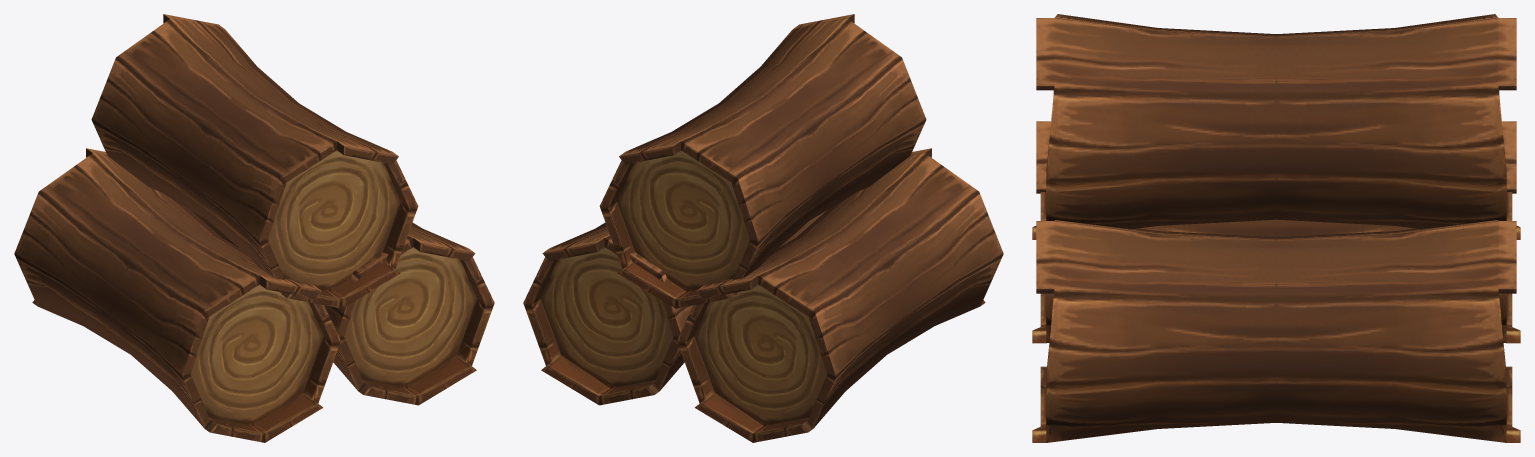
Rendered from 38_log.FBX.
3 renders of one model, left to right at view 1: azimuth 30°, elevation 25°; view 2: azimuth 150°, elevation 25°; view 3: azimuth 270°, elevation 25°, orthographic. The views are drawn at different scales.
Visible parts, largest first — view 1: 38_log; view 2: 38_log; view 3: 38_log.
Part boxes in pixels (x1,y1,x2,y2): 38_log: [14, 14, 494, 442]; 38_log: [523, 14, 1003, 442]; 38_log: [1032, 14, 1520, 442].
Bounding box in the file's own units: 49.41 × 42.5 × 50.66.
